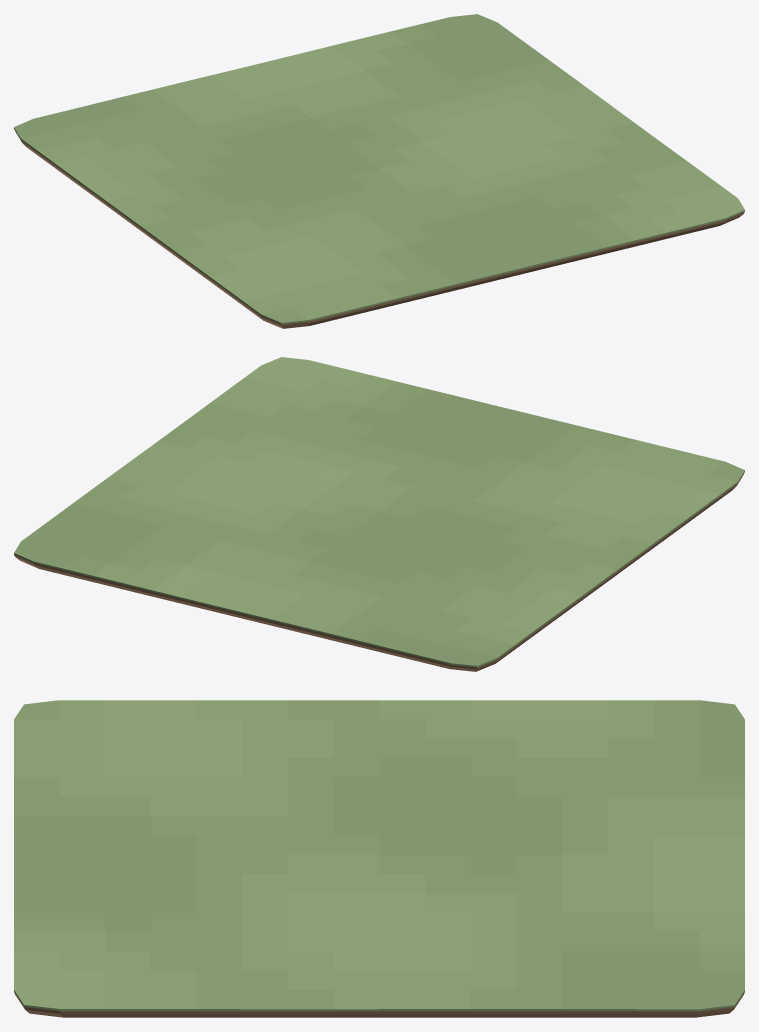
File: MeadowGround.fbx
The picture shows the model from 3 angles, top to bottom: view 1: azimuth 30°, elevation 25°; view 2: azimuth 150°, elevation 25°; view 3: azimuth 270°, elevation 25°; orthographic projection. The views are drawn at different scales.
Visible parts, largest first — view 1: Meadow | grass cap and earthen banks; view 2: Meadow | grass cap and earthen banks; view 3: Meadow | grass cap and earthen banks.
Part boxes in pixels (x1=…): Meadow | grass cap and earthen banks: x1=14, y1=14, x2=744, y2=328; Meadow | grass cap and earthen banks: x1=14, y1=357, x2=744, y2=671; Meadow | grass cap and earthen banks: x1=14, y1=700, x2=744, y2=1017.
Bounding box in the file's own units: 64 × 1.27 × 64.
